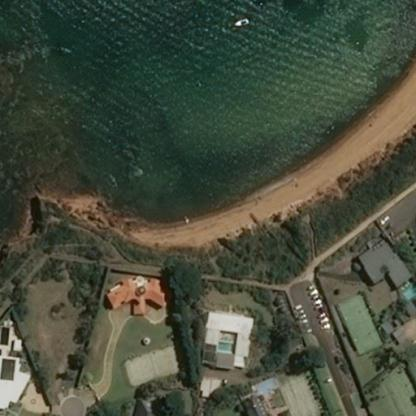ship: (233, 0, 249, 8)
